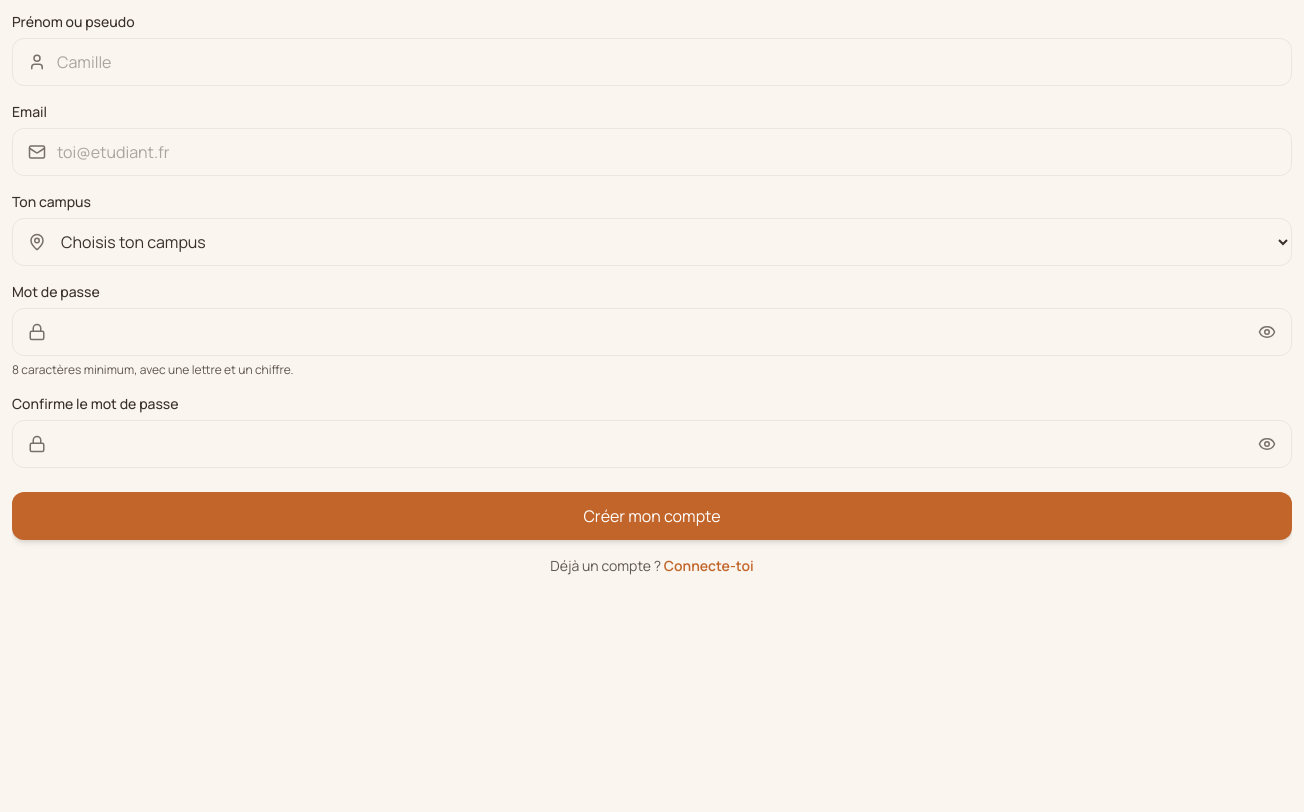
Test case: RegisterForm › shows an error when passwords do not match
Type "secret123" into the password field labelled "Mot de passe" at coordinates (652, 332), box [12,308,1292,356]
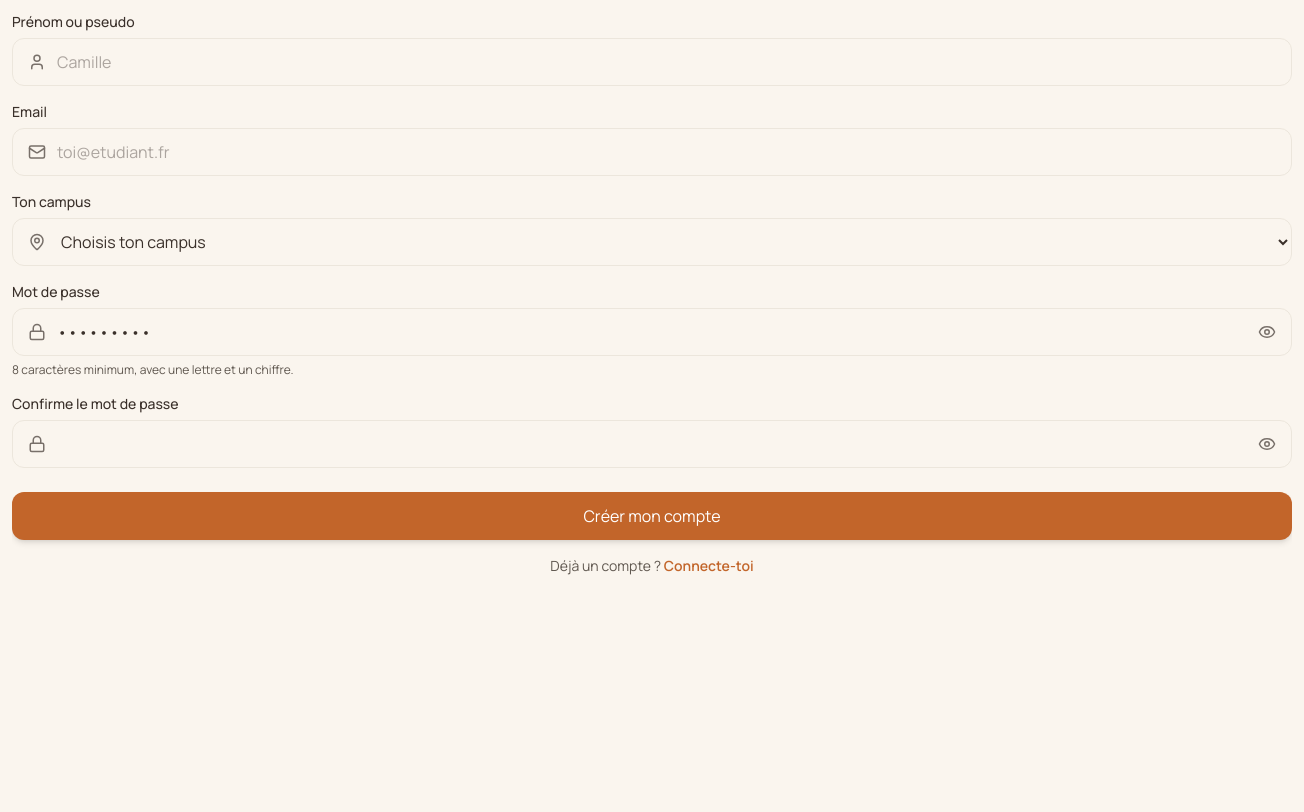
Type "different123" into the password field labelled "Confirme le mot de passe" at coordinates (652, 444), box [12,420,1292,468]
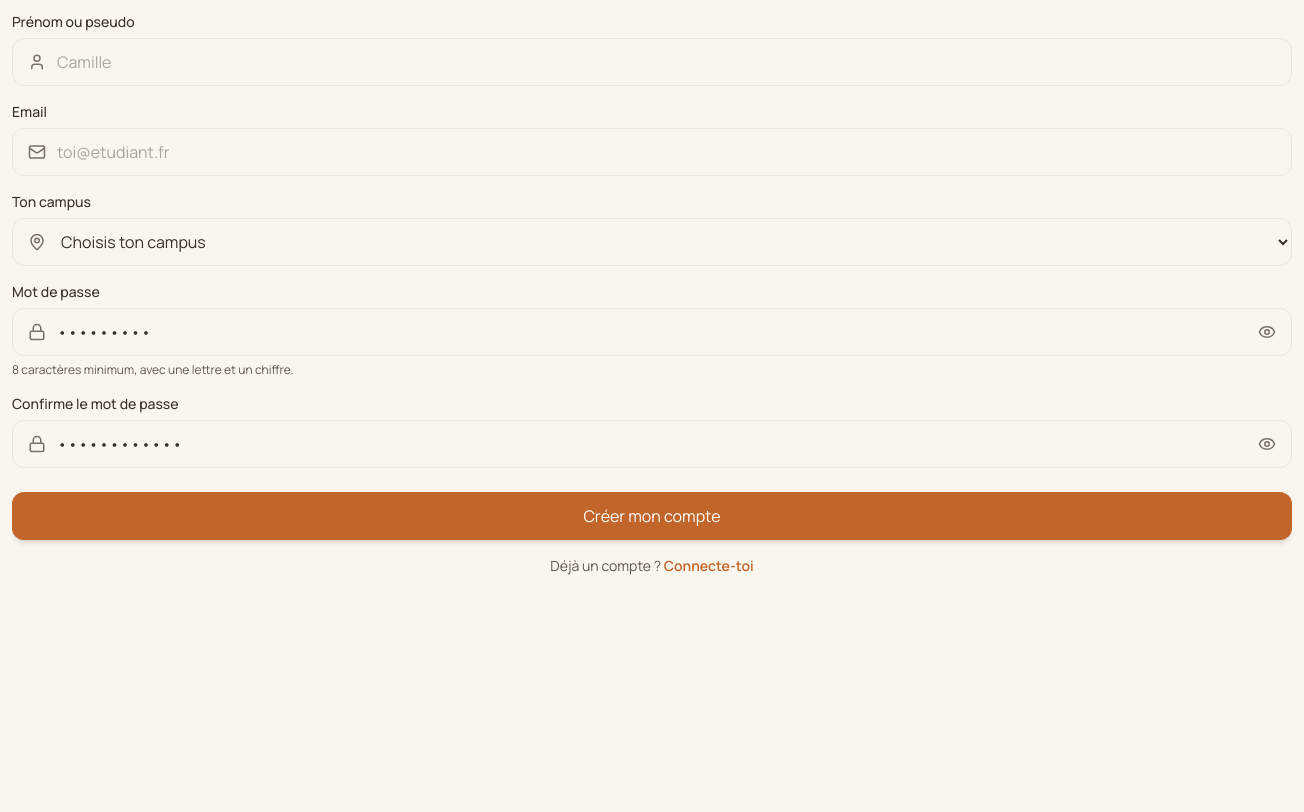
Click the button "Créer mon compte" at coordinates (652, 516), box [12,492,1292,540]
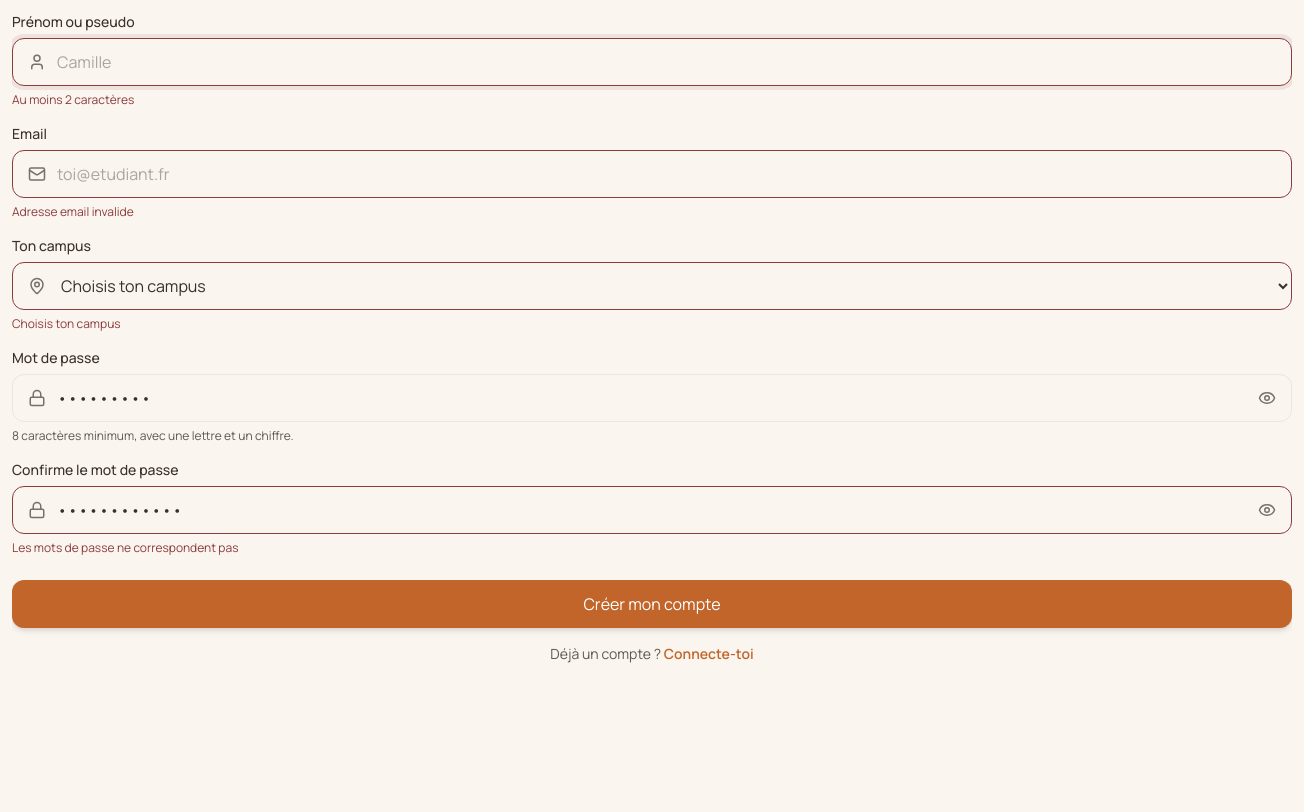
Check: the text "Les mots de passe ne correspondent pas" is shown, box [12,539,238,556]
